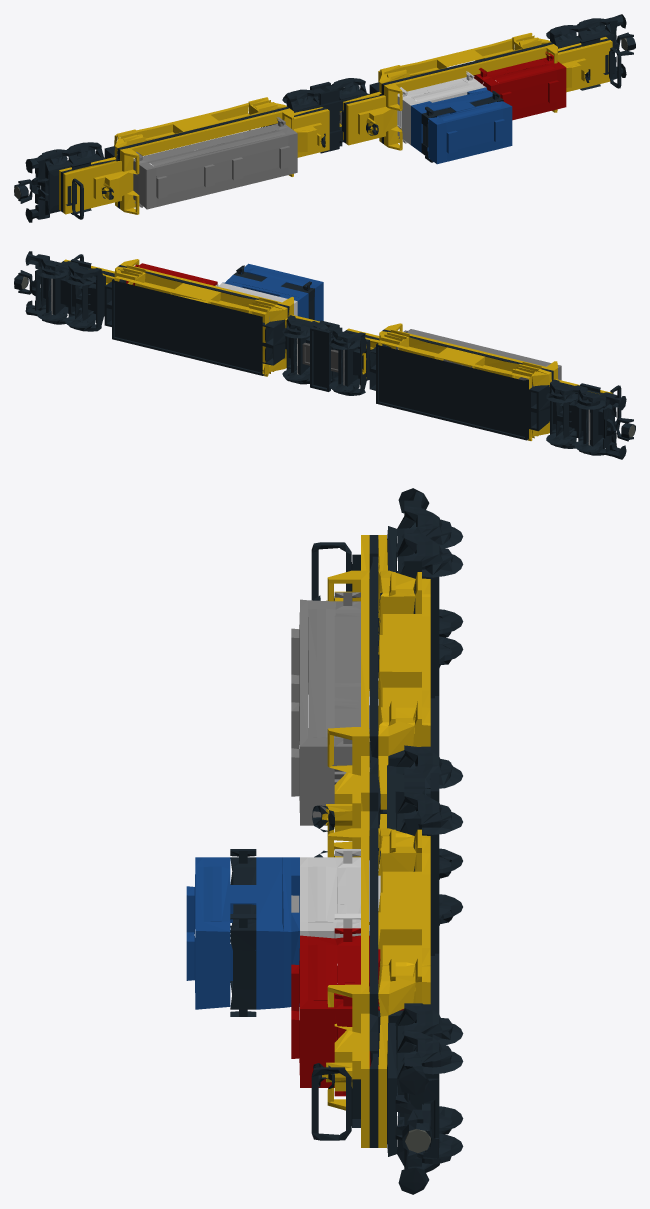
File: ttx-intermodal-double-stack-car.glb
3 renders of one model, top to bottom at view 1: azimuth 30°, elevation 25°; view 2: azimuth 150°, elevation 25°; view 3: azimuth 270°, elevation 25°, orthographic. The views are drawn at different scales.
Size of the model in its own units: 521 by 54.44 by 102.
